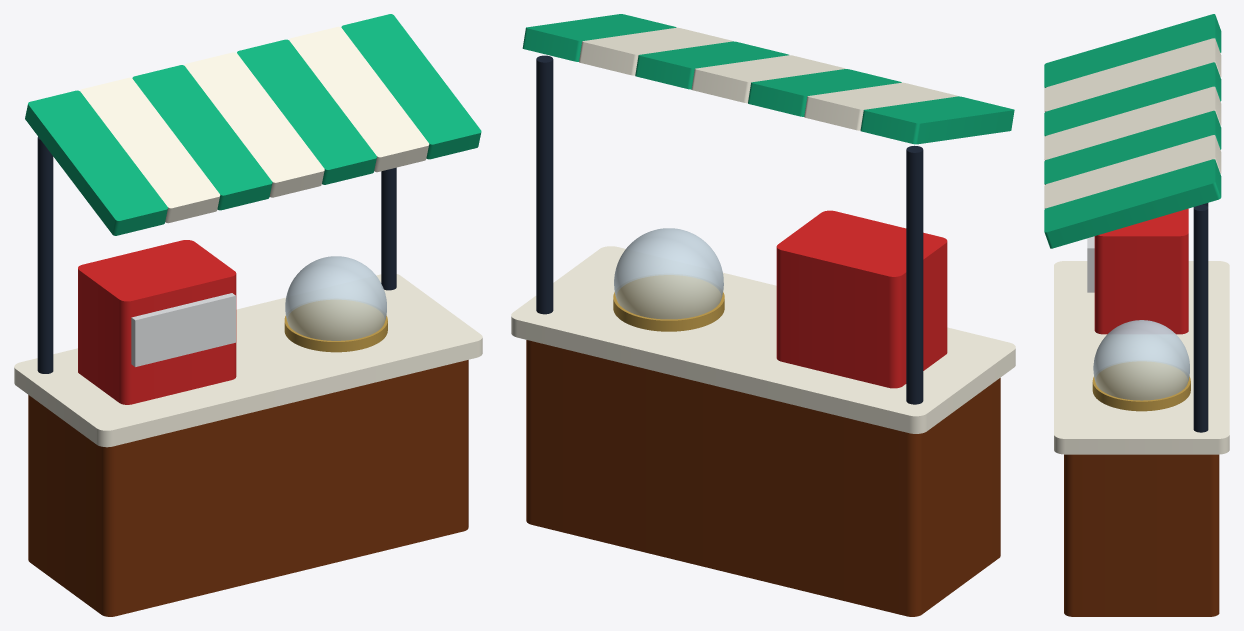
File: espresso_counter.glb
3 views of the same model, side by side, from view 1: azimuth 30°, elevation 25°; view 2: azimuth 150°, elevation 25°; view 3: azimuth 270°, elevation 25° (orthographic). The views are drawn at different scales.
Parts seen in each view (by area): view 1: bar_base, bar_top, esp_body, aw_s_0, aw_s_4, aw_s_3, aw_s_6, aw_s_1, aw_s_2, aw_s_5, p_dome, esp_front (+3 smaller); view 2: bar_base, bar_top, esp_body, p_dome, aw_s_0, p_base, aw_post_L, aw_post_R, aw_s_4, aw_s_2, aw_s_6, aw_s_3 (+2 smaller); view 3: bar_base, bar_top, esp_body, aw_s_6, p_dome, aw_s_0, aw_s_5, aw_s_1, aw_s_3, aw_s_4, aw_s_2, p_base (+2 smaller).
Boxes of the visible parts, <box> form: bar_base: <box>28,360,468,616</box>; bar_top: <box>14,274,482,447</box>; esp_body: <box>78,240,236,404</box>; aw_s_0: <box>25,90,167,235</box>; aw_s_4: <box>237,39,376,184</box>; aw_s_3: <box>184,52,324,197</box>; aw_s_6: <box>341,14,481,159</box>; aw_s_1: <box>80,77,220,223</box>; aw_s_2: <box>132,65,272,210</box>; aw_s_5: <box>289,26,429,172</box>; p_dome: <box>285,256,386,340</box>; esp_front: <box>131,293,235,366</box>; bar_base: <box>526,340,1000,616</box>; bar_top: <box>511,246,1015,433</box>; esp_body: <box>776,210,947,388</box>; p_dome: <box>614,228,723,319</box>; aw_s_0: <box>860,96,1014,144</box>; p_base: <box>613,275,724,331</box>; aw_post_L: <box>906,145,923,404</box>; aw_post_R: <box>536,55,553,314</box>; aw_s_4: <box>635,41,788,89</box>; aw_s_2: <box>748,69,901,116</box>; aw_s_6: <box>522,14,676,61</box>; aw_s_3: <box>691,55,845,103</box>; bar_base: <box>1064,454,1219,616</box>; bar_top: <box>1054,261,1229,454</box>; esp_body: <box>1094,208,1188,334</box>; aw_s_6: <box>1044,159,1221,248</box>; p_dome: <box>1093,320,1189,400</box>; aw_s_0: <box>1044,14,1221,87</box>; aw_s_5: <box>1044,135,1221,208</box>; aw_s_1: <box>1044,38,1221,111</box>; aw_s_3: <box>1044,86,1221,160</box>; aw_s_4: <box>1044,110,1221,184</box>; aw_s_2: <box>1044,62,1221,136</box>; p_base: <box>1092,361,1190,411</box>.
Size of the model in its own units: 1.03 by 1.17 by 0.4534.
